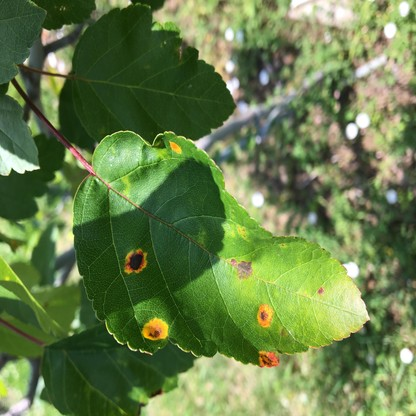rust: (124, 249, 147, 275), (141, 318, 168, 340), (258, 348, 278, 368), (257, 303, 272, 328), (169, 140, 182, 154), (236, 225, 247, 237), (230, 257, 236, 265)
scab: (280, 328, 287, 338)
